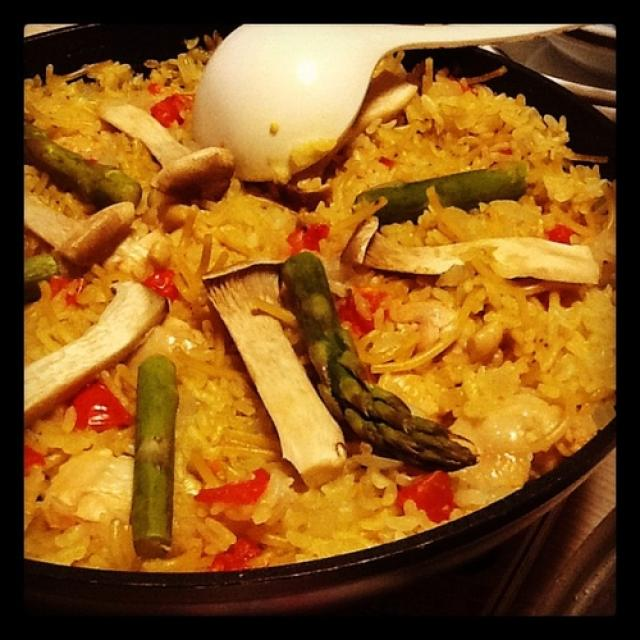带馅早点: (60, 151, 553, 513)
